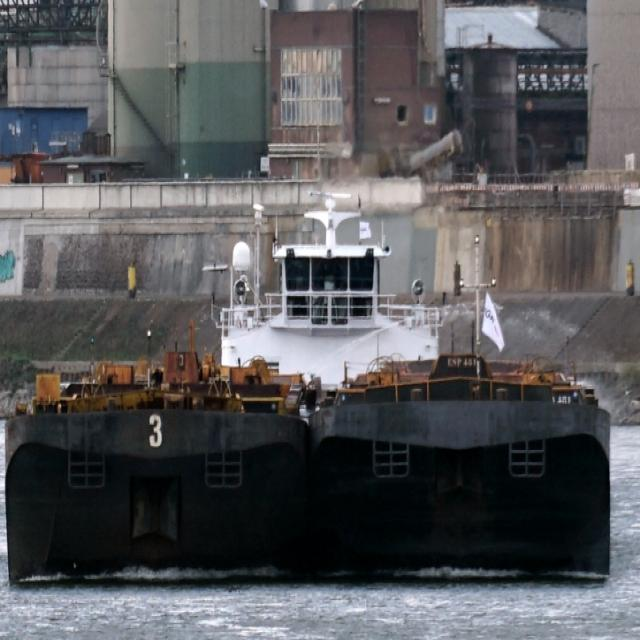tugboat: (202, 186, 455, 494)
